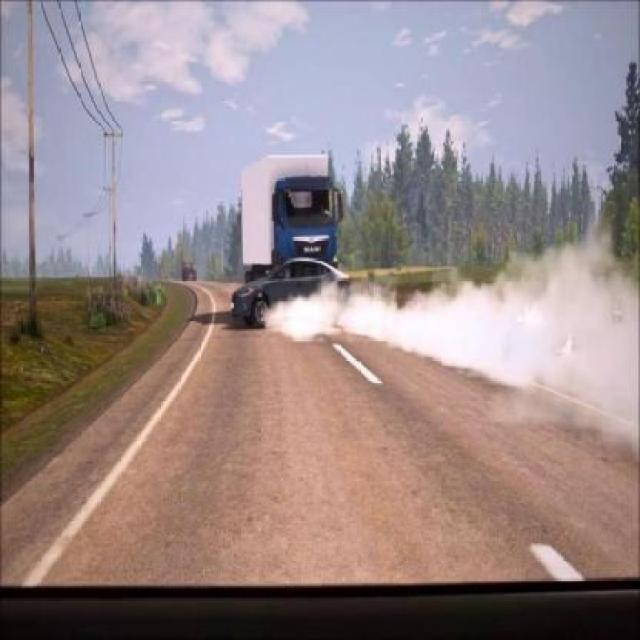accident: (219, 154, 359, 335)
